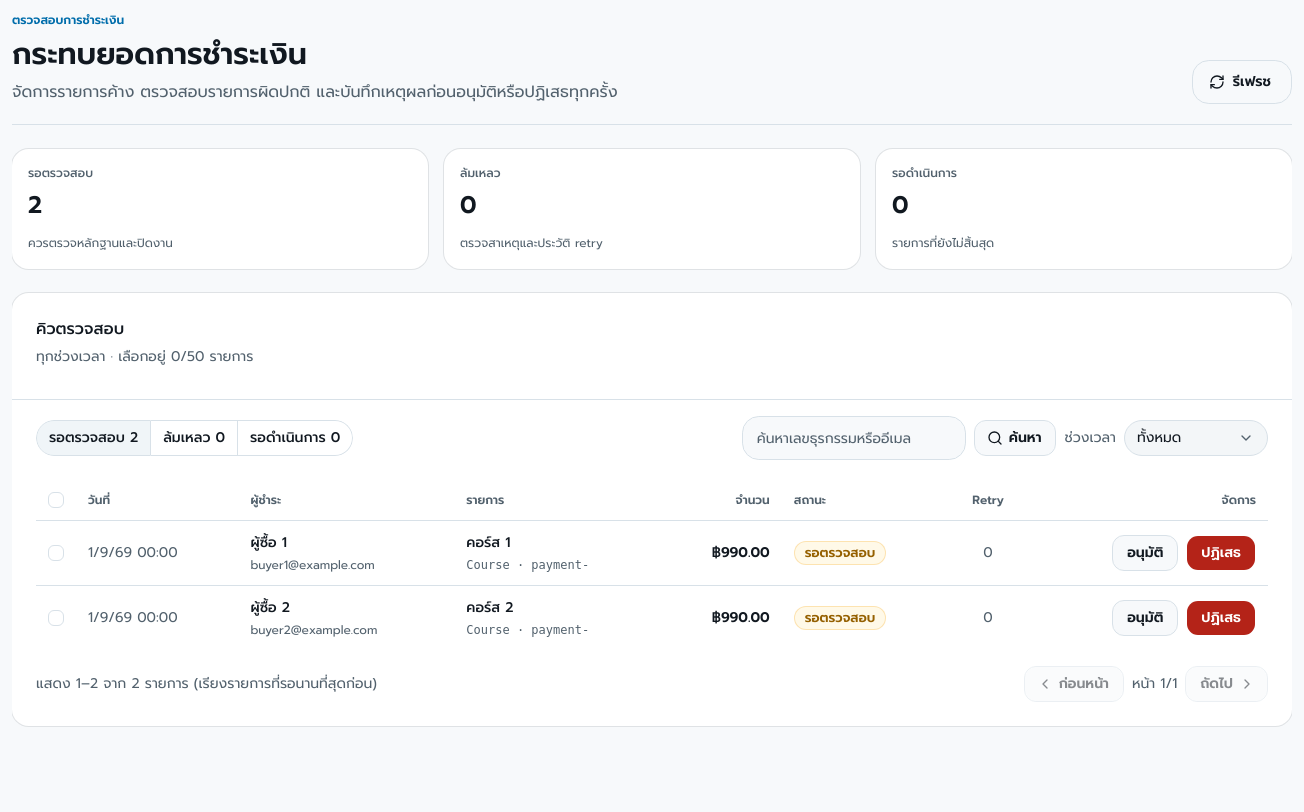
Test: Admin reconciliation queue states › marks rows as possibly out of date and disables decisions after a failed refresh
The width and height of the screenshot is (1304, 812).
Expected: the text "คอร์ส 1" is shown, [466,532,511,552]
Step 1. Click the checkbox named "เลือกธุรกรรม " → (56, 552), box [48,544,64,560]
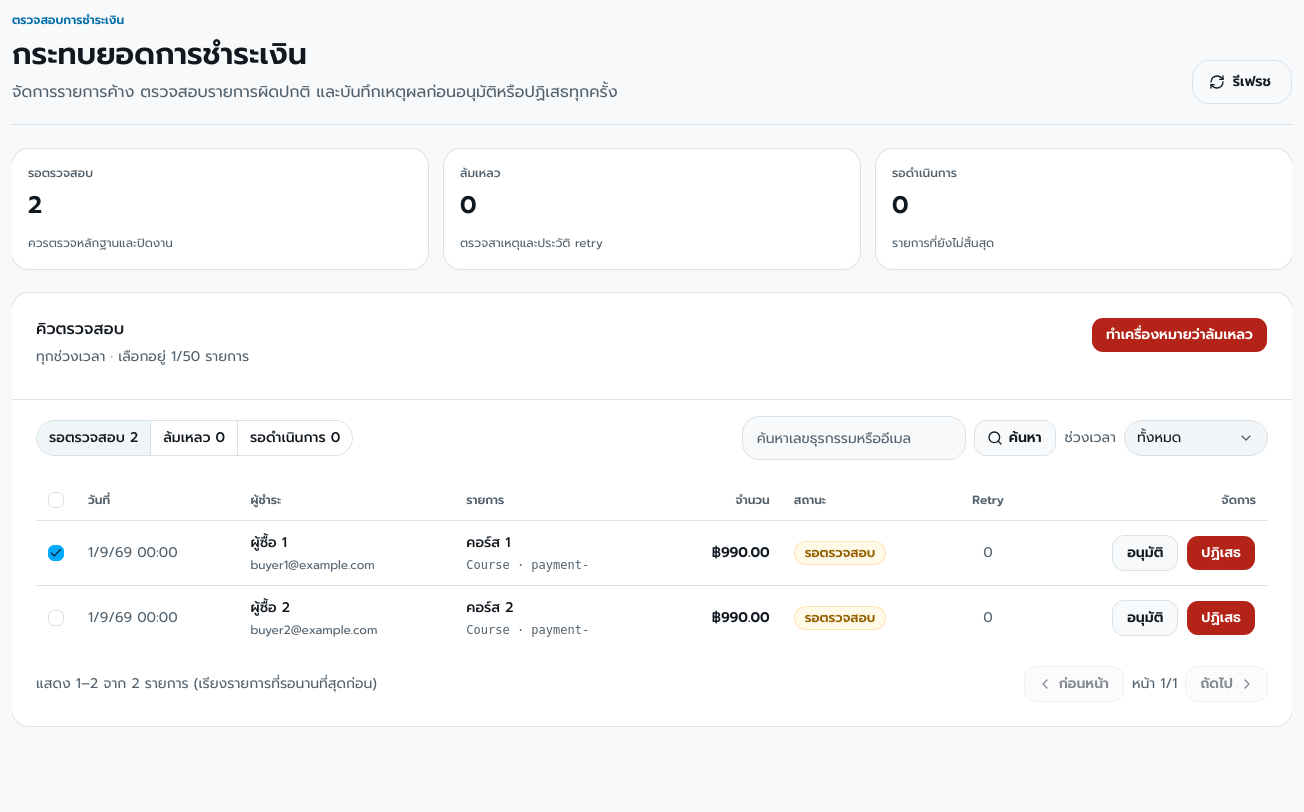
Step 2. Click the button "รีเฟรช" → (1242, 82), box [1192,60,1292,104]
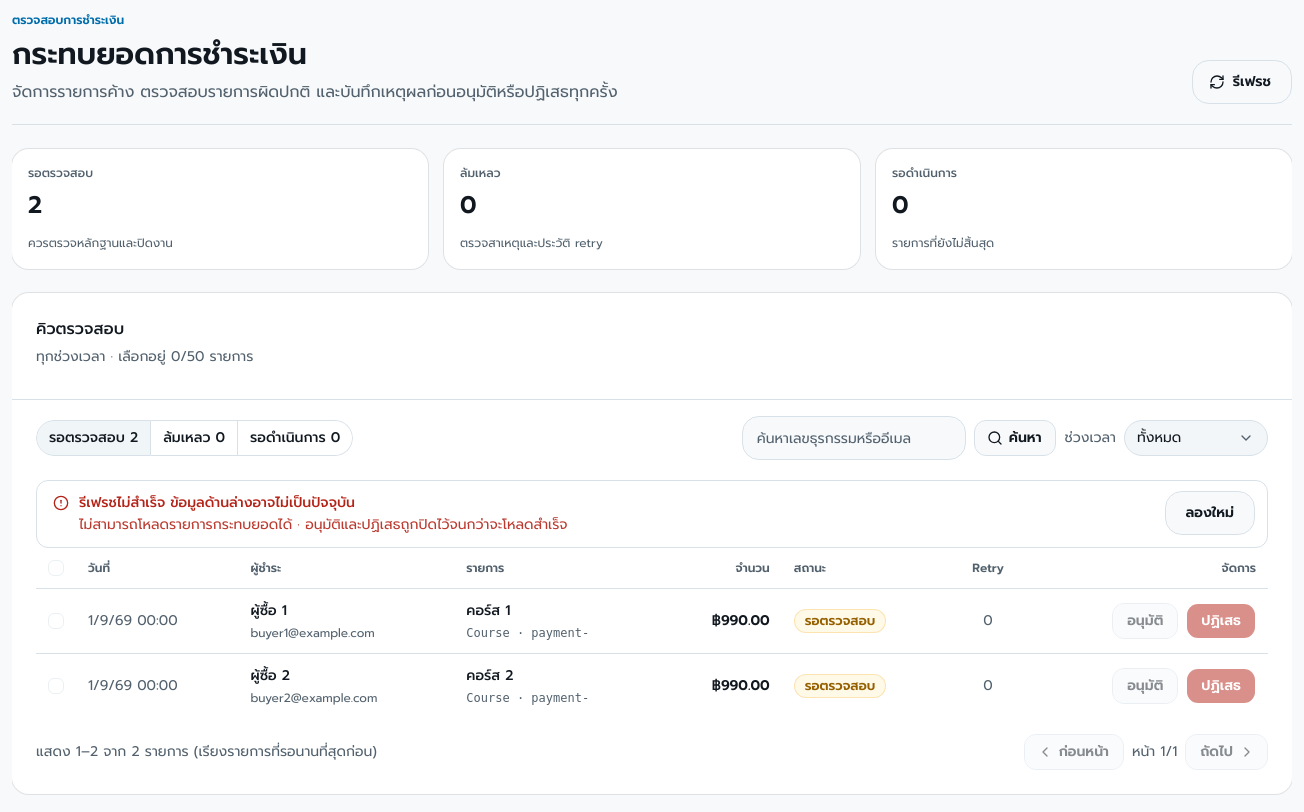
Expected: the text "รีเฟรชไม่สำเร็จ ข้อมูลด้านล่างอาจไม่เป็นปัจจุบัน" is shown, [79,492,355,513]
Expected: the button "อนุมัติ" in the row of "ผู้ซื้อ 1" is disabled, [1112,602,1178,638]
Expected: the button "ปฏิเสธ" in the row of "ผู้ซื้อ 1" is disabled, [1186,602,1256,638]
